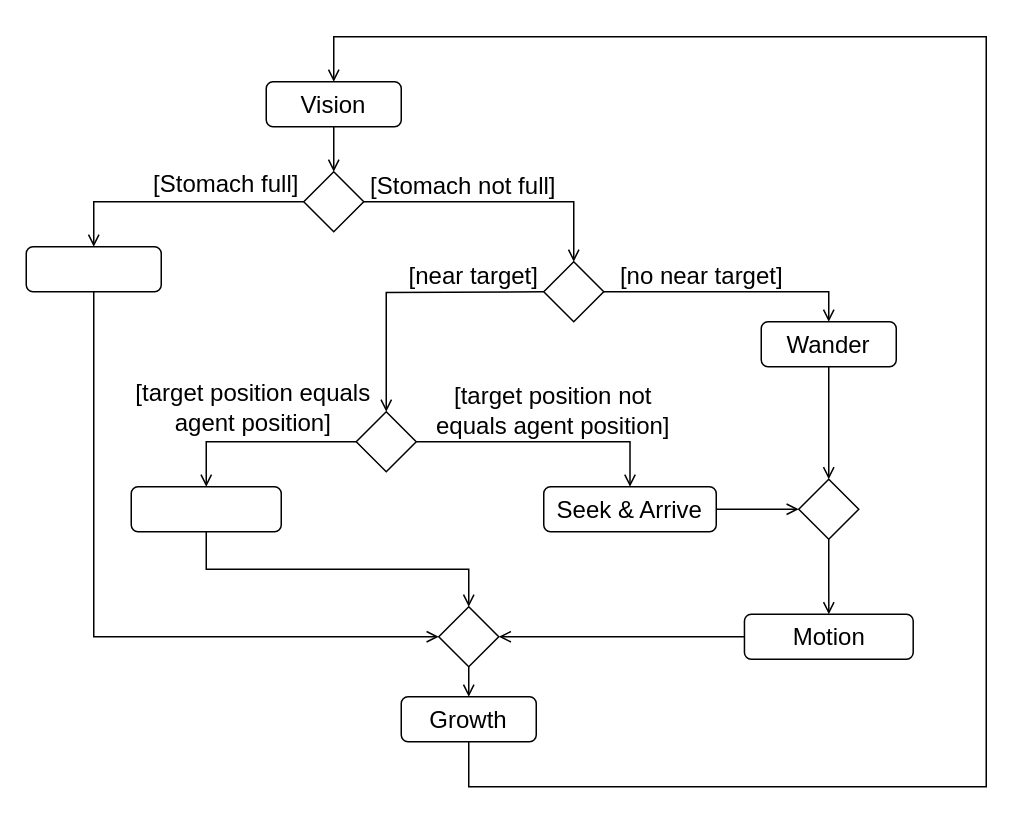
This 1025x825 diagram has some shape labels left out. The shapes that lost their labels are listed below. From the top down, each one's centre as x and y in pixels, then its label:
the point at 93,268: Digestion
the point at 205,508: Ingestion
